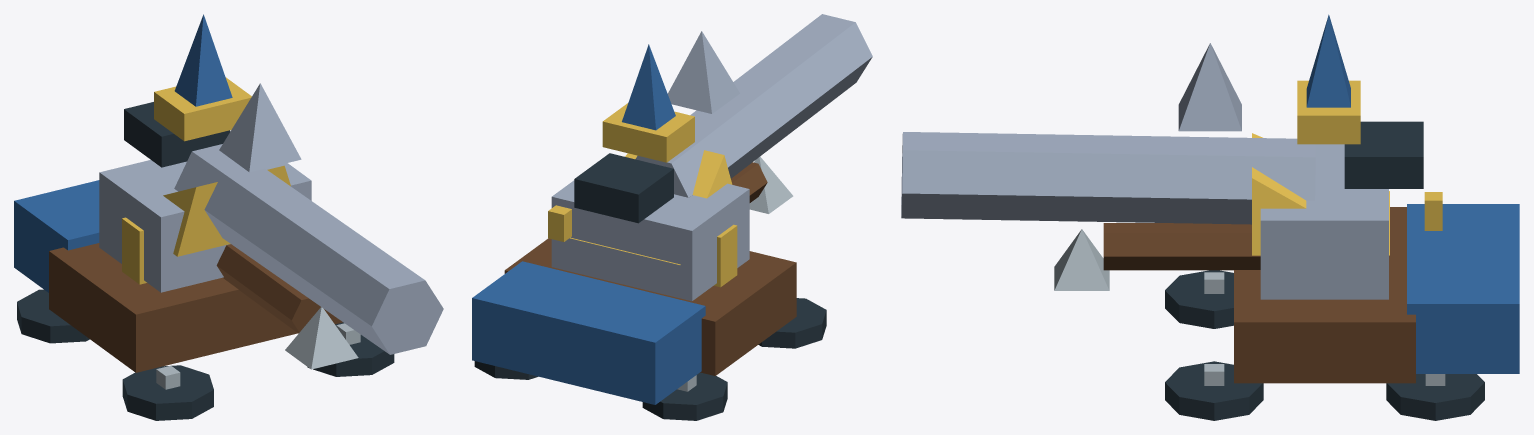
File: heavy-artillery.obj
3 views of the same model, side by side, from view 1: azimuth 30°, elevation 25°; view 2: azimuth 150°, elevation 25°; view 3: azimuth 270°, elevation 25° (orthographic). The views are drawn at different scales.
Visible parts, largest first — view 1: siege; view 2: siege; view 3: siege.
Part boxes in pixels (x1,y1,x2,y2): siege: (14,14,443,420); siege: (472,14,872,420); siege: (901,14,1519,420).
Bounding box in the file's own units: 1.6 × 1.9 × 3.13.
